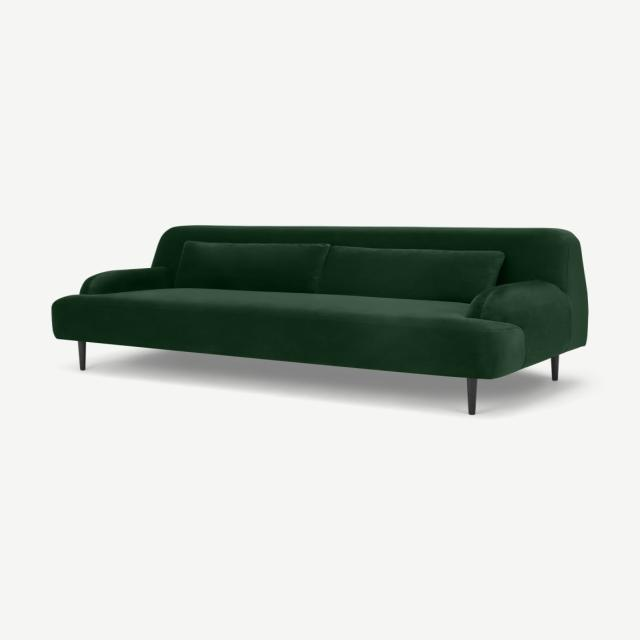Soffa: (49, 221, 589, 417)
